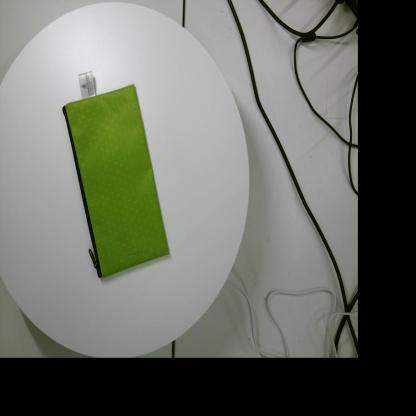Stationery: (62, 71, 169, 278)
